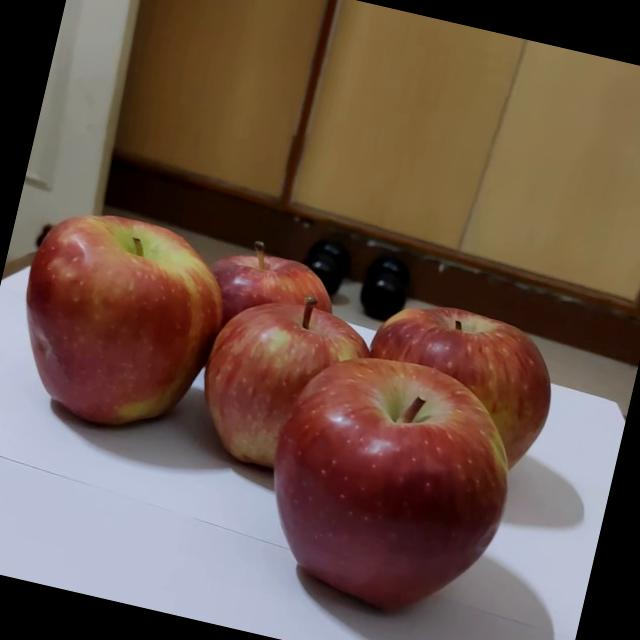apple: (150, 298, 432, 590), (328, 271, 560, 497), (13, 172, 238, 402), (163, 246, 363, 446), (197, 214, 366, 379)
